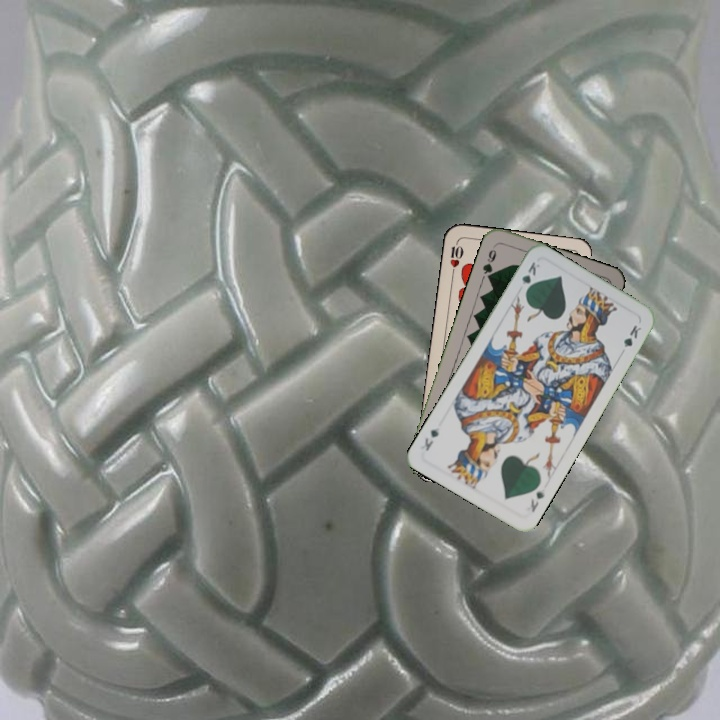G9: (478, 241, 499, 283)
GK: (518, 257, 543, 296), (526, 487, 547, 515)
H10: (446, 238, 465, 278)
